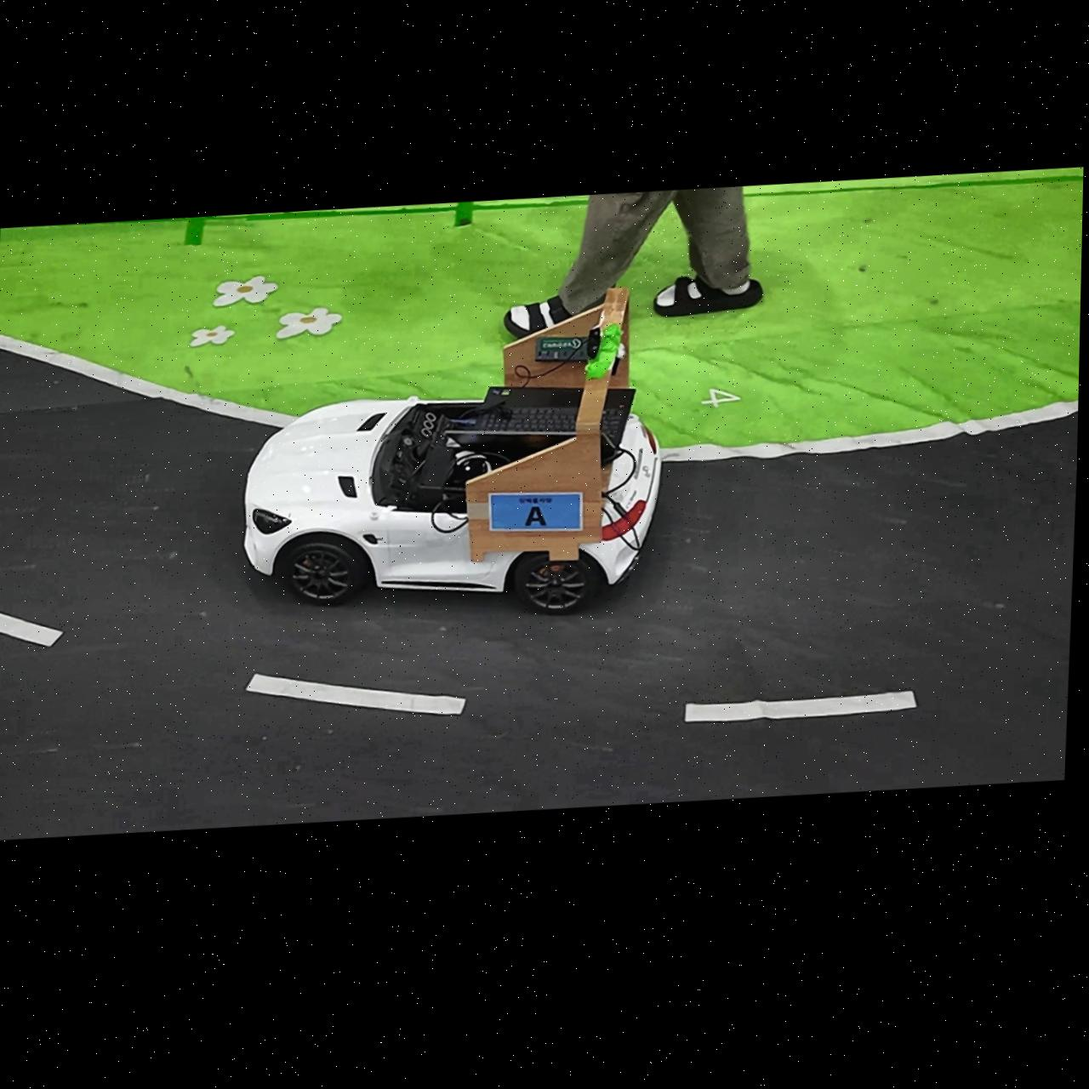broken_line: (246, 674, 466, 714), (685, 691, 917, 722), (0, 613, 63, 647)
